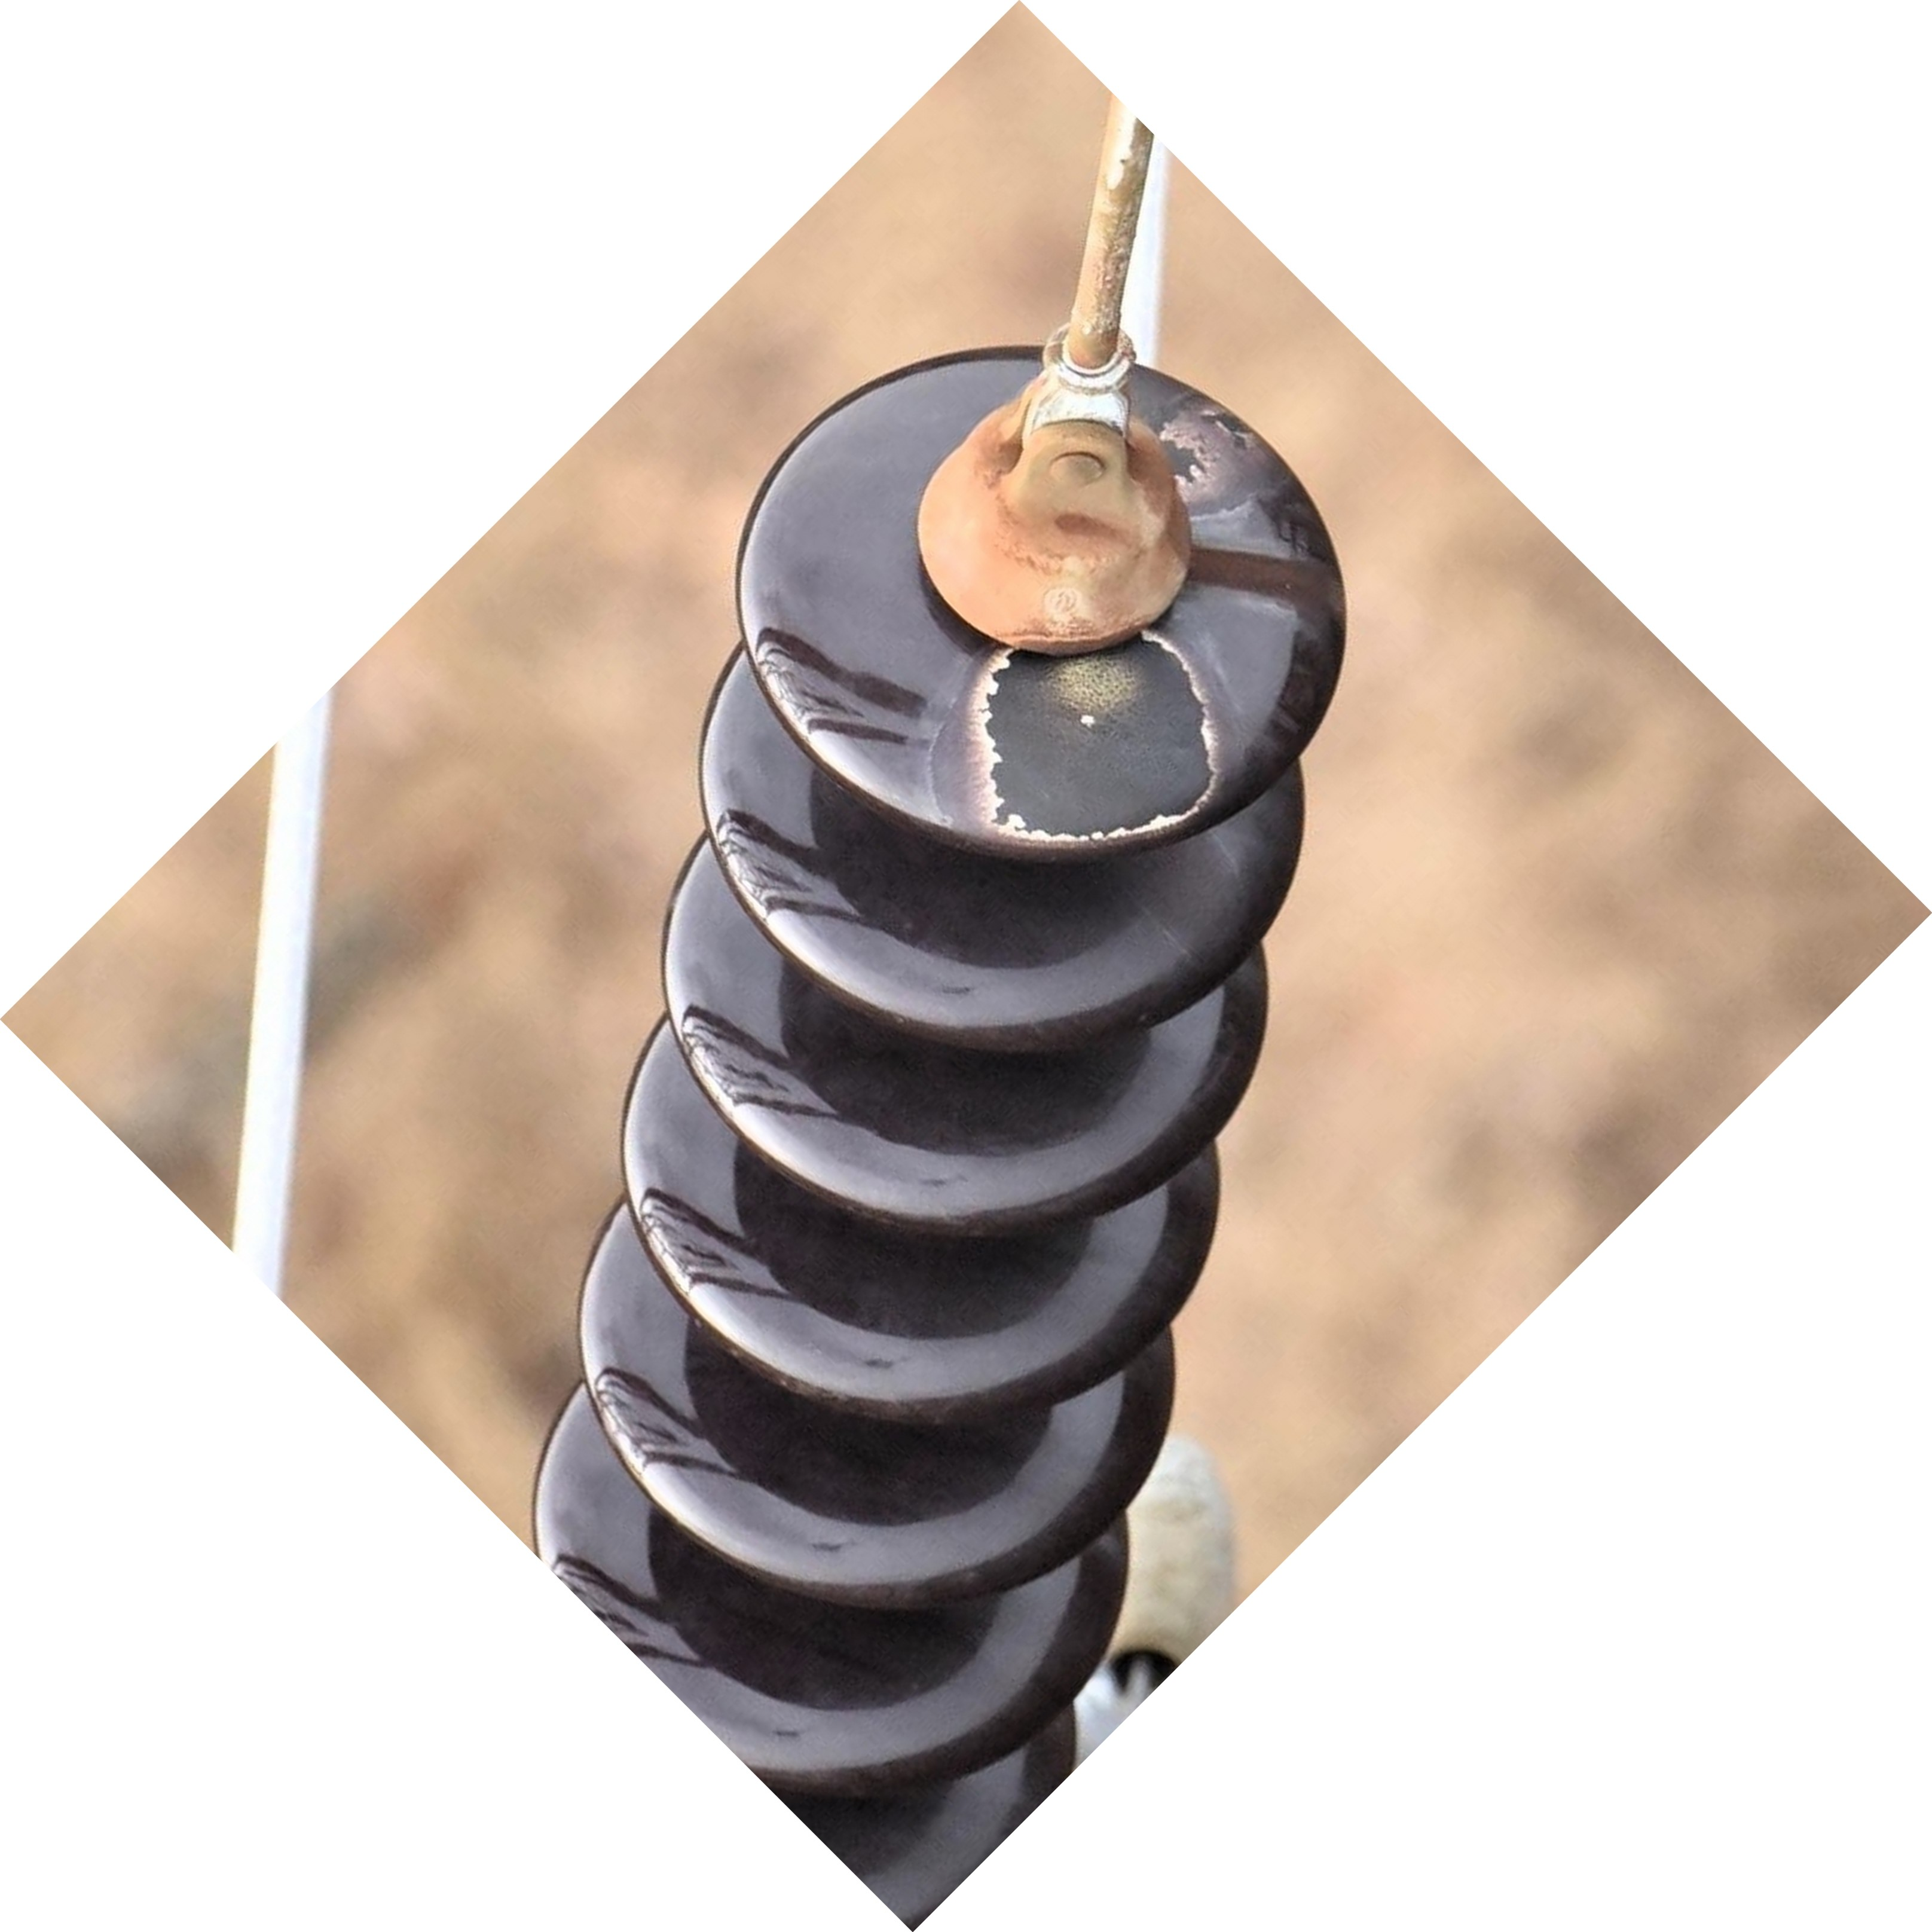Insulator flashover: (722, 326, 1355, 878)
